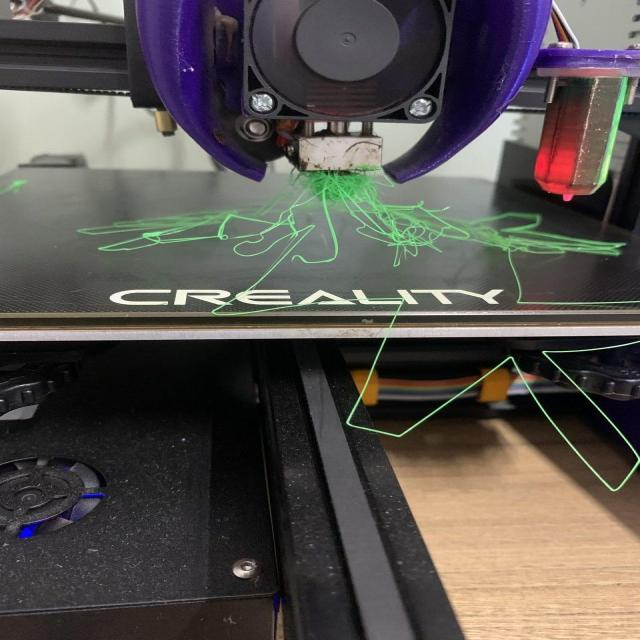Spaghetti: (119, 160, 580, 278)
